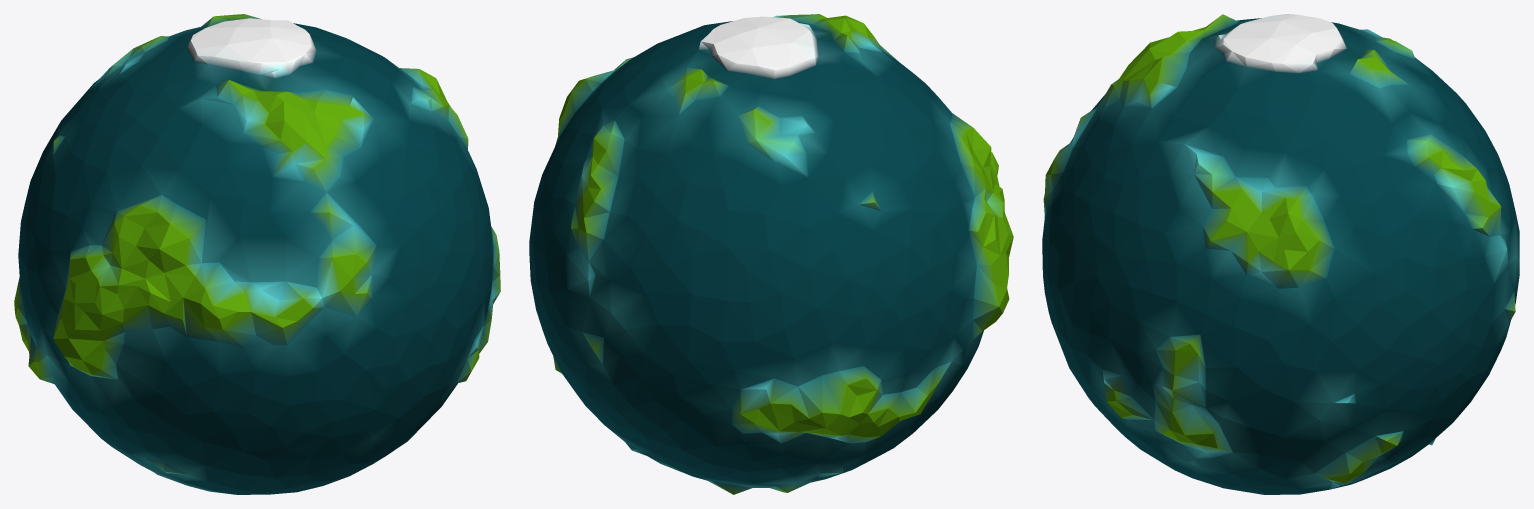
Rendered from planet_35.fbx.
3 renders of one model, left to right at view 1: azimuth 30°, elevation 25°; view 2: azimuth 150°, elevation 25°; view 3: azimuth 270°, elevation 25°, orthographic. The views are drawn at different scales.
Parts seen in each view (by area): view 1: file1; view 2: file1; view 3: file1.
Boxes of the visible parts, x1,y1,x2,y2 form: file1: [14, 14, 500, 494]; file1: [529, 14, 1013, 494]; file1: [1042, 14, 1519, 494].
Size of the model in its own units: 2.07 by 2.03 by 2.
